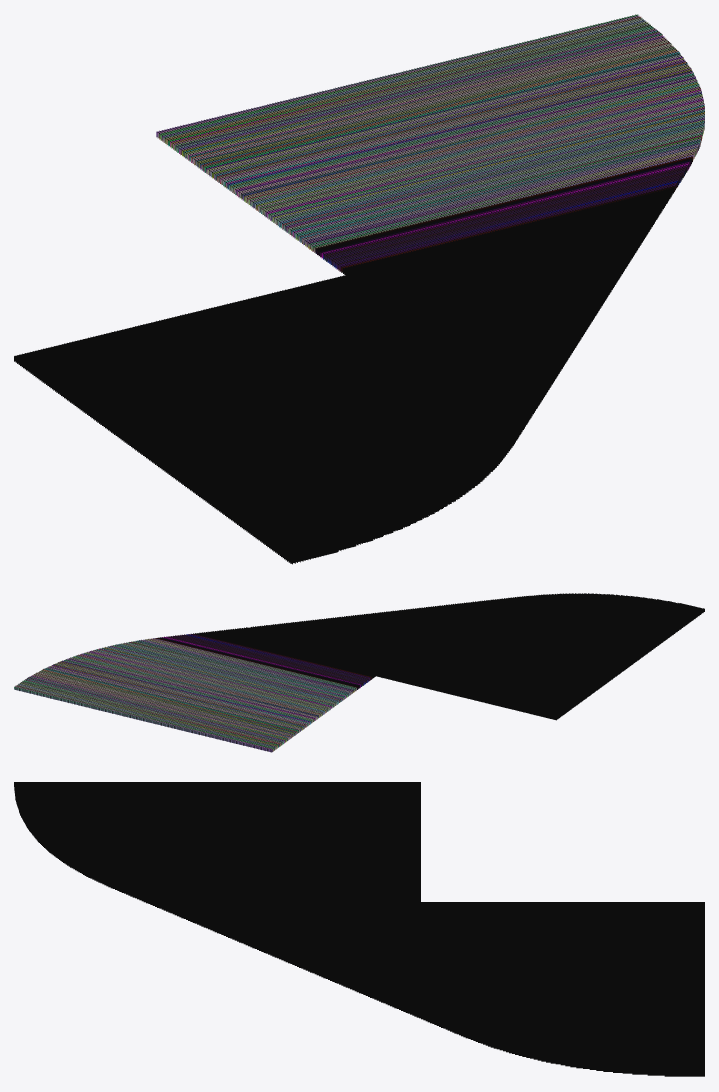
File: Grass_Corner.gltf
3 renders of one model, top to bottom at view 1: azimuth 30°, elevation 25°; view 2: azimuth 150°, elevation 25°; view 3: azimuth 270°, elevation 25°, orthographic. The views are drawn at different scales.
Parts seen in each view (by area): view 1: Grass_Corner; view 2: Grass_Corner; view 3: Grass_Corner.
Boxes of the visible parts, left/top/right/bottom form: Grass_Corner: left=14, top=14, right=704, bottom=564; Grass_Corner: left=14, top=593, right=704, bottom=752; Grass_Corner: left=14, top=782, right=704, bottom=1076.
Size of the model in its own units: 12.46 by 0.08 by 12.46.
